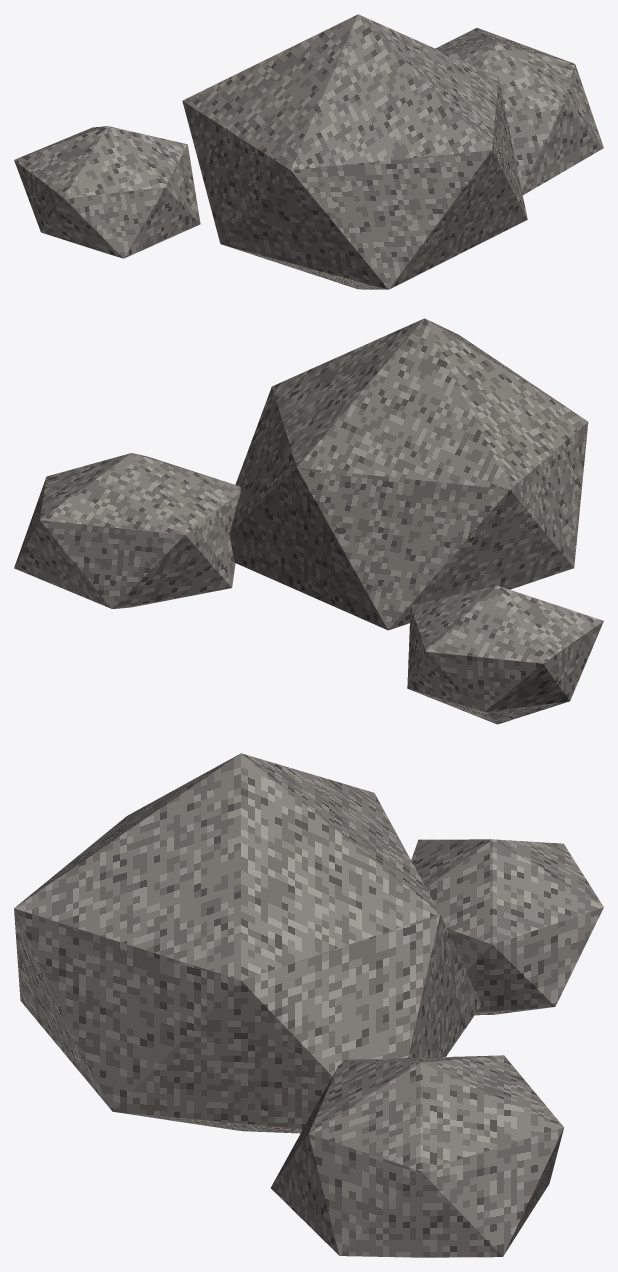
Rendered from stone_chunk.glb.
The picture shows the model from 3 angles, top to bottom: view 1: azimuth 30°, elevation 25°; view 2: azimuth 150°, elevation 25°; view 3: azimuth 270°, elevation 25°; orthographic projection. The views are drawn at different scales.
Visible parts, largest first — view 1: Body; view 2: Body; view 3: Body.
Part boxes in pixels (x1,y1,x2,y2): Body: [14, 14, 603, 289]; Body: [14, 318, 603, 724]; Body: [14, 753, 603, 1257].
Bounding box in the file's own units: 0.2259 × 0.116 × 0.1642.
Materials: 1 (1 with a texture image).
